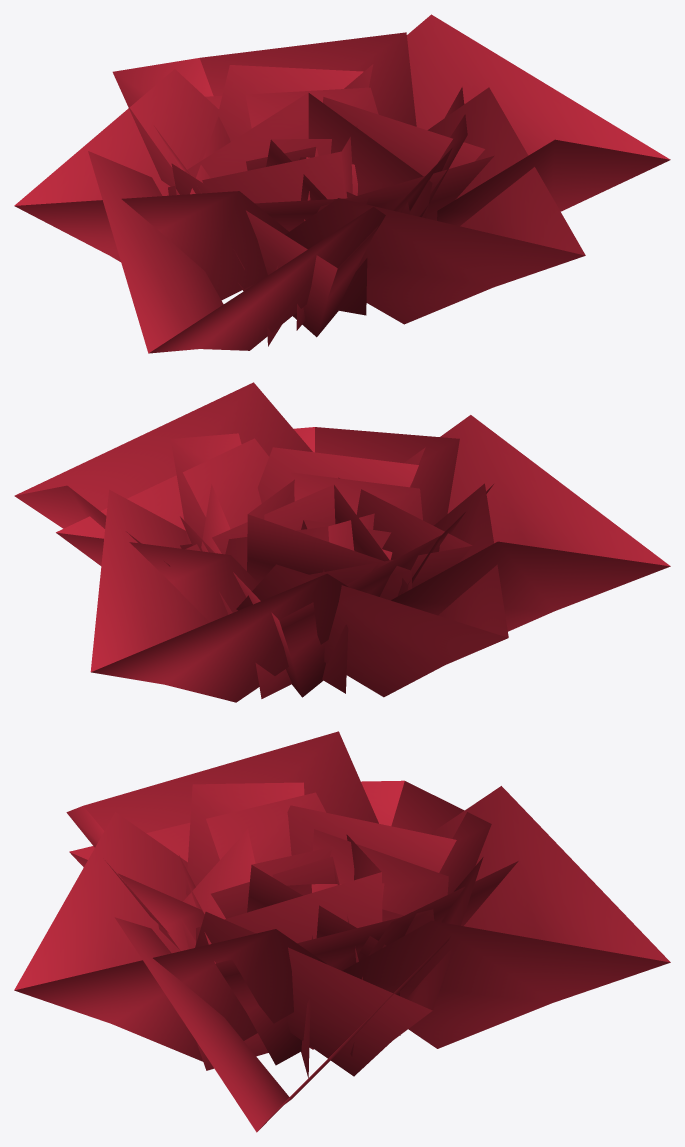
The model's file is rose.glb.
3 views of the same model, one above another, from view 1: azimuth 30°, elevation 25°; view 2: azimuth 150°, elevation 25°; view 3: azimuth 270°, elevation 25° (orthographic). The views are drawn at different scales.
Parts seen in each view (by area): view 1: rose; view 2: rose; view 3: rose.
Part boxes in pixels (bbox=[...]): rose: bbox=[14, 14, 670, 353]; rose: bbox=[14, 382, 670, 702]; rose: bbox=[14, 731, 670, 1132].
Size of the model in its own units: 0.1296 by 0.039 by 0.1152.
